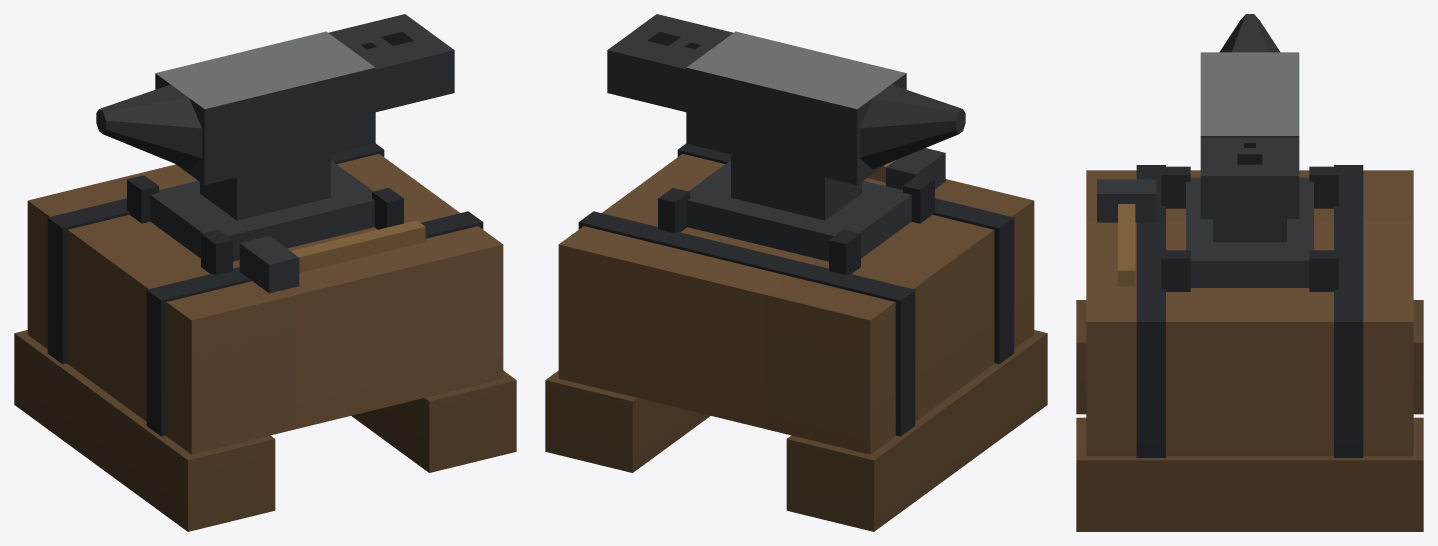
Rendered from tool.anvil.iron.glb.
3 renders of one model, left to right at view 1: azimuth 30°, elevation 25°; view 2: azimuth 150°, elevation 25°; view 3: azimuth 270°, elevation 25°, orthographic.
Visible parts, largest first — view 1: tool_anvil_iron; view 2: tool_anvil_iron; view 3: tool_anvil_iron.
Boxes of the visible parts, x1,y1,x2,y2 form: tool_anvil_iron: [14, 14, 516, 531]; tool_anvil_iron: [545, 14, 1047, 531]; tool_anvil_iron: [1076, 14, 1423, 531].
Size of what is drawn, in the model's own units: 0.769 by 0.8 by 0.704.
